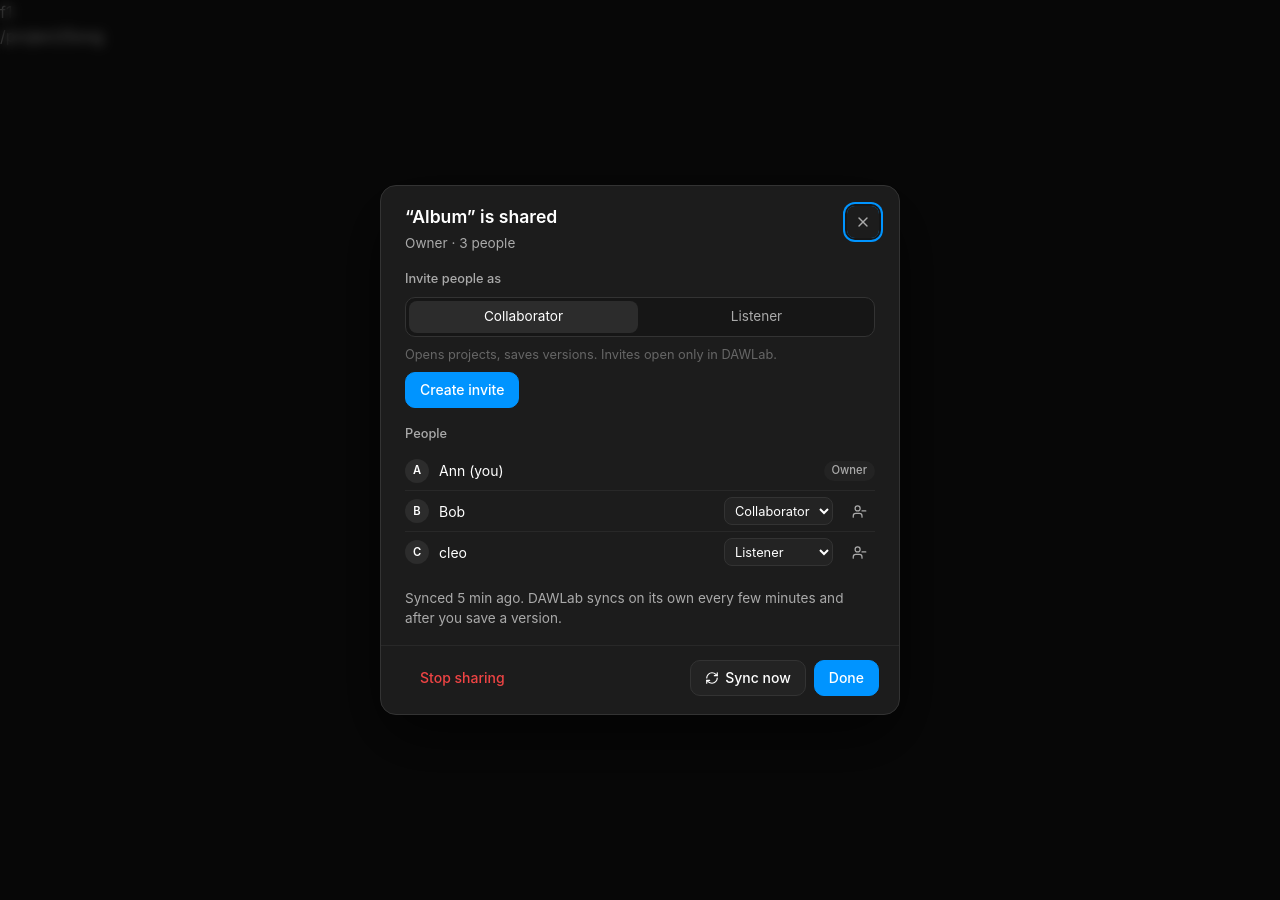
Test: SharingProvider › sharing › shareFolder() opens the folder dialog for that folder
Check: the dialog "“Album” is shared" is shown, box x1=380 y1=185 x2=900 y2=715
Click the button "Done" at (846, 678), box x1=814 y1=660 x2=879 y2=696
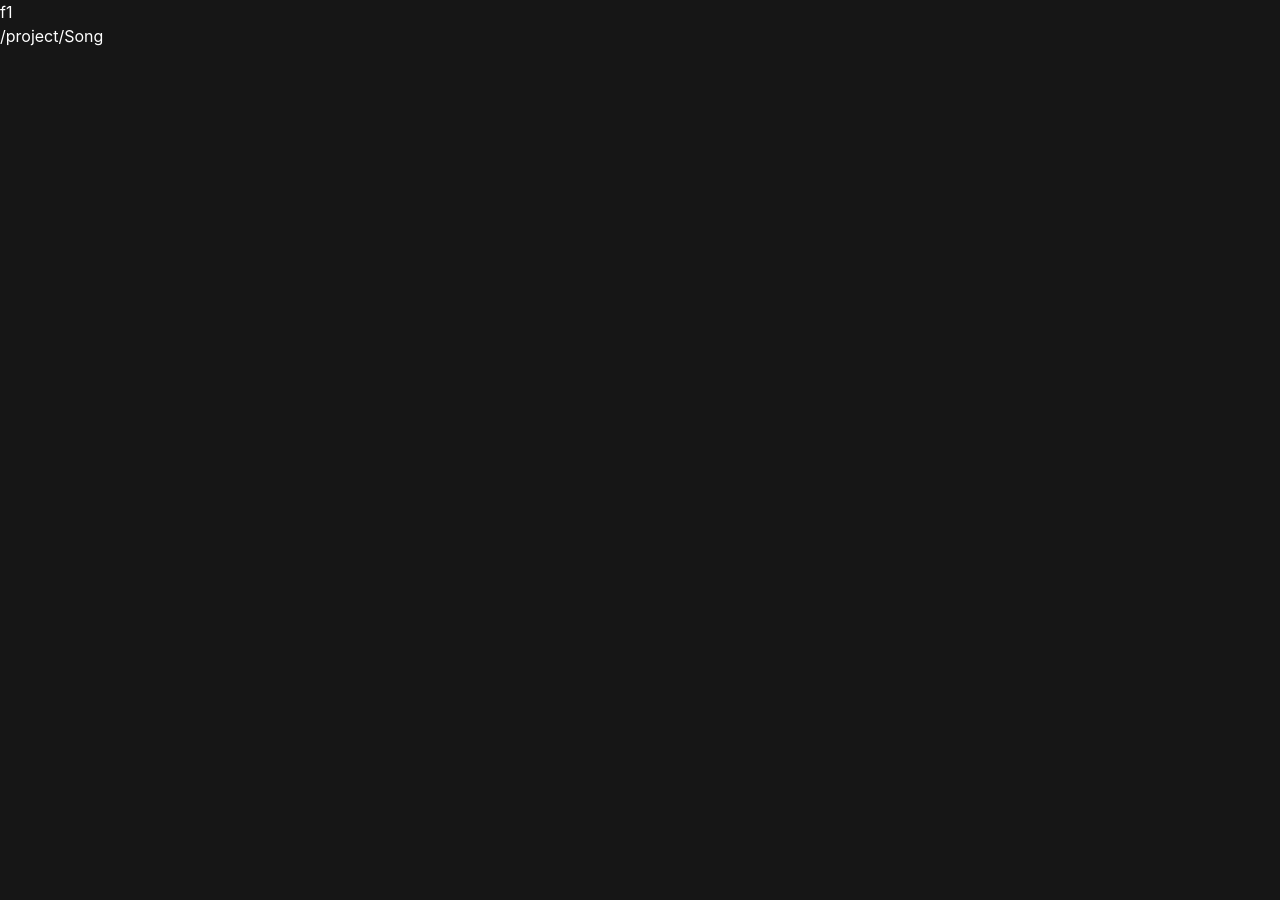
Check: the dialog is gone
